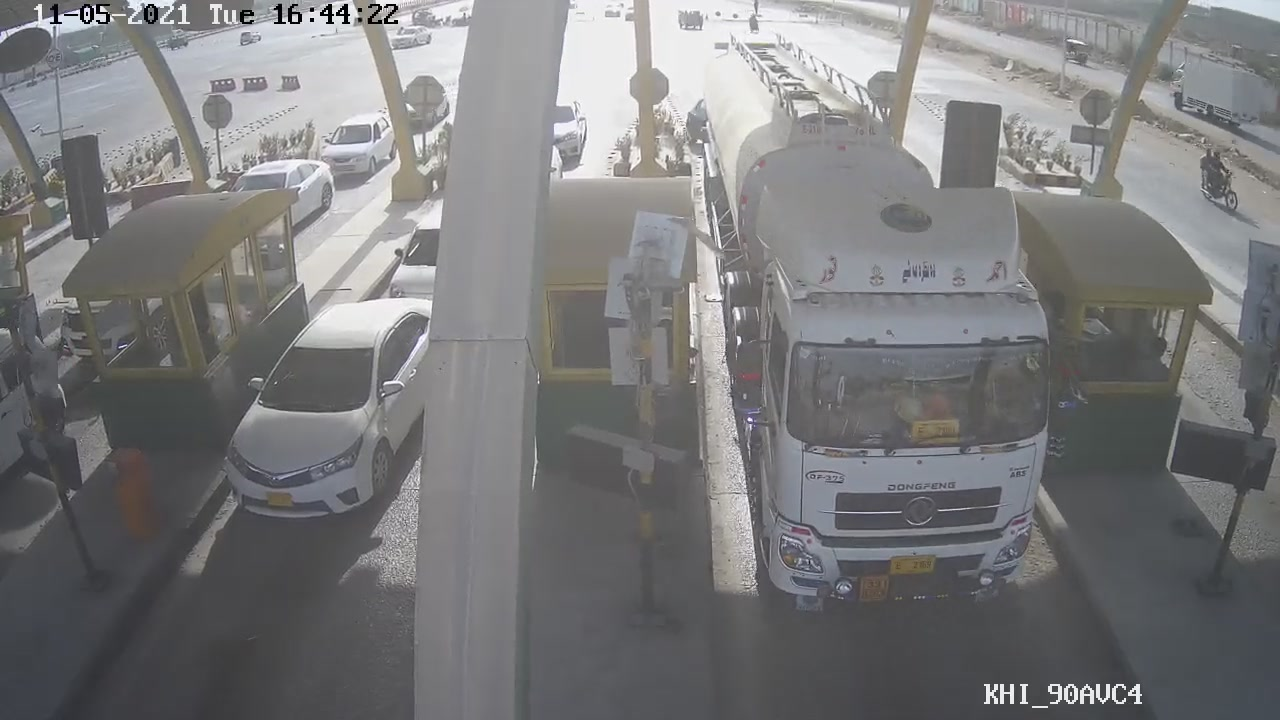F6: (697, 37, 1083, 623)
